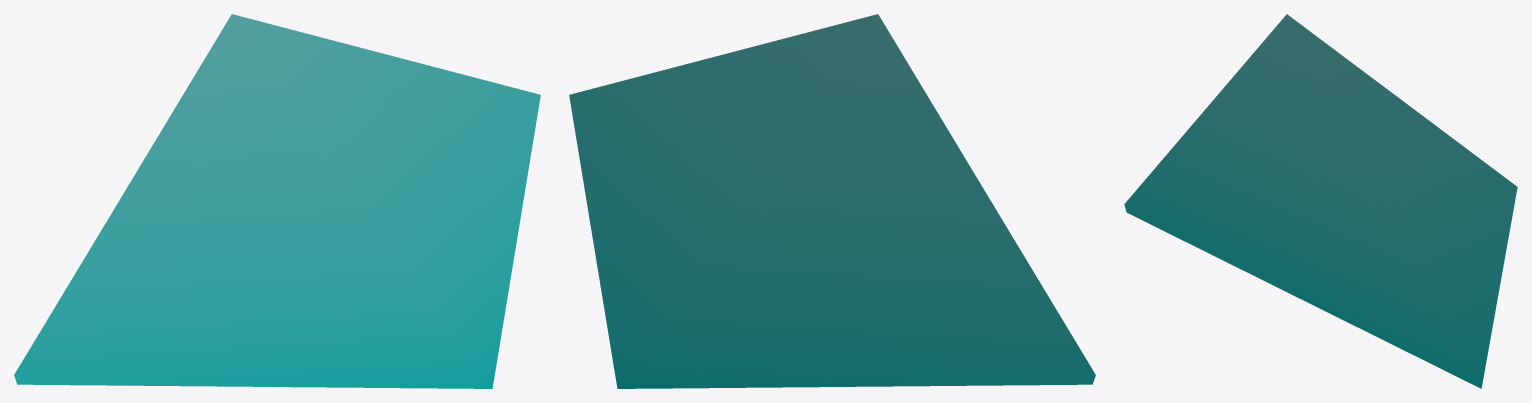
File: Creeping_Saltbush_thckfiqr_Mid_thckfiqr_VarA_LOD3.fbx
3 renders of one model, left to right at view 1: azimuth 30°, elevation 25°; view 2: azimuth 150°, elevation 25°; view 3: azimuth 330°, elevation 25°, orthographic. The views are drawn at different scales.
Parts seen in each view (by area): view 1: _7581_VarA_LOD4; view 2: _7581_VarA_LOD4; view 3: _7581_VarA_LOD4.
Boxes of the visible parts, <box> form: _7581_VarA_LOD4: <box>14,14,540,388</box>; _7581_VarA_LOD4: <box>569,14,1095,388</box>; _7581_VarA_LOD4: <box>1124,14,1517,388</box>.
Bounding box in the file's own units: 61.09 × 48.6 × 0.
